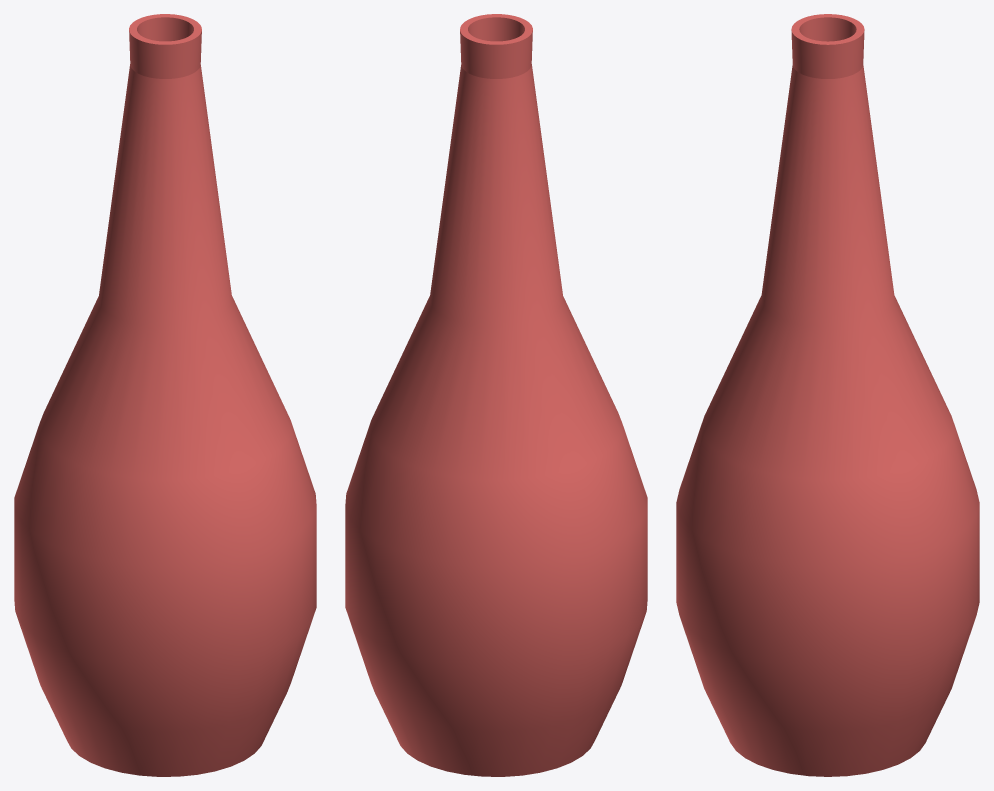
Rendered from vase.fbx.
3 renders of one model, left to right at view 1: azimuth 30°, elevation 25°; view 2: azimuth 150°, elevation 25°; view 3: azimuth 270°, elevation 25°, orthographic.
Parts seen in each view (by area): view 1: Cylinder; view 2: Cylinder; view 3: Cylinder.
Part boxes in pixels (x1=…): Cylinder: x1=14, y1=14, x2=316, y2=776; Cylinder: x1=345, y1=14, x2=647, y2=776; Cylinder: x1=676, y1=14, x2=979, y2=776.
Size of the model in its own units: 188 by 483 by 188.
